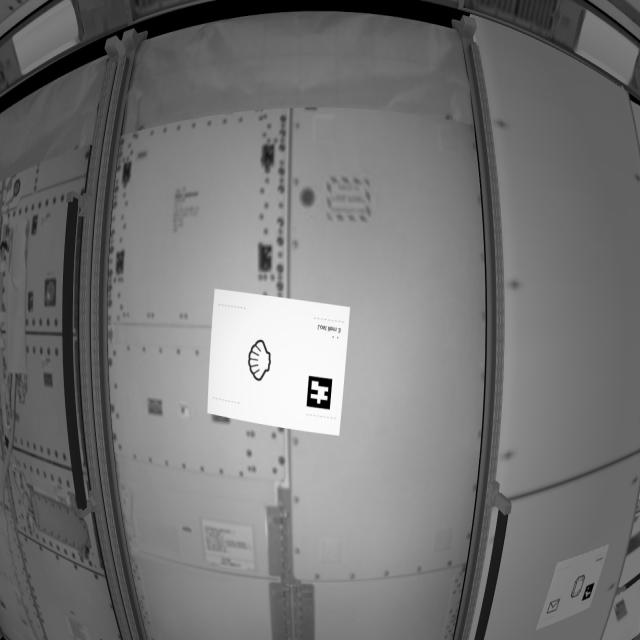shell: (246, 333, 277, 390)
